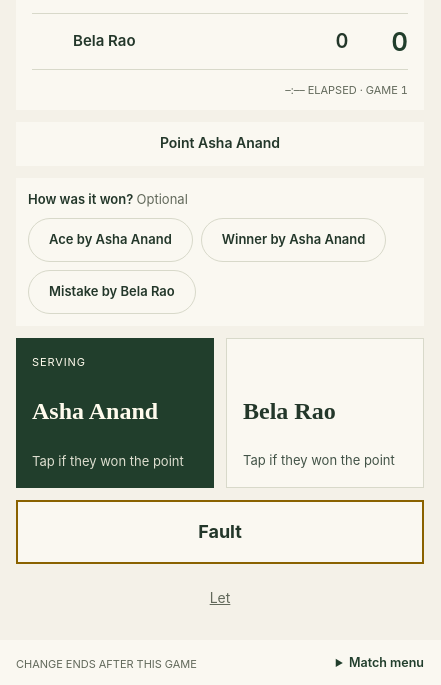
Test: says to change ends while the reason for the game's last point is still open
(page scrolled)
What coordinates should you click on to do the following:
click the button with aria-label "Point — Asha Anand"
I would click on:
 (115, 413)
Its box is [16, 338, 214, 488].
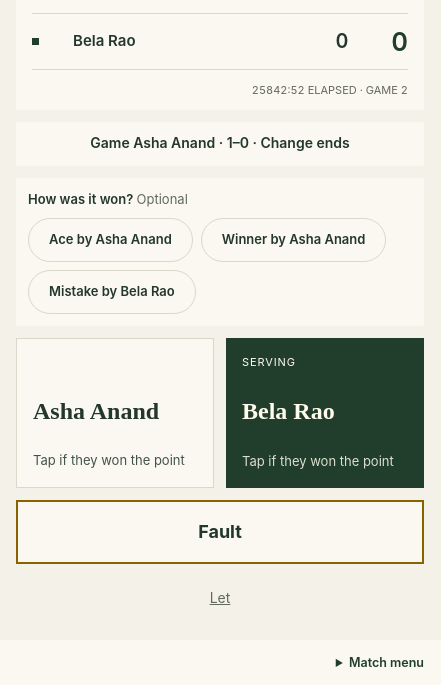
Expected: the element named "How the point was won" is shown, [16, 178, 424, 326]
Result: the text "Game Asha Anand · 1–0 · Change ends" is shown at [16, 122, 424, 166]
